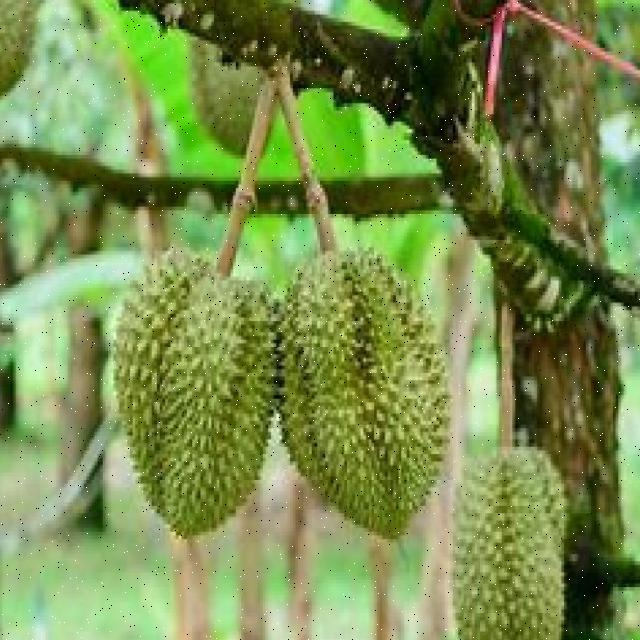UNRIPE: (283, 249, 452, 546), (115, 249, 279, 537), (452, 449, 563, 640)
